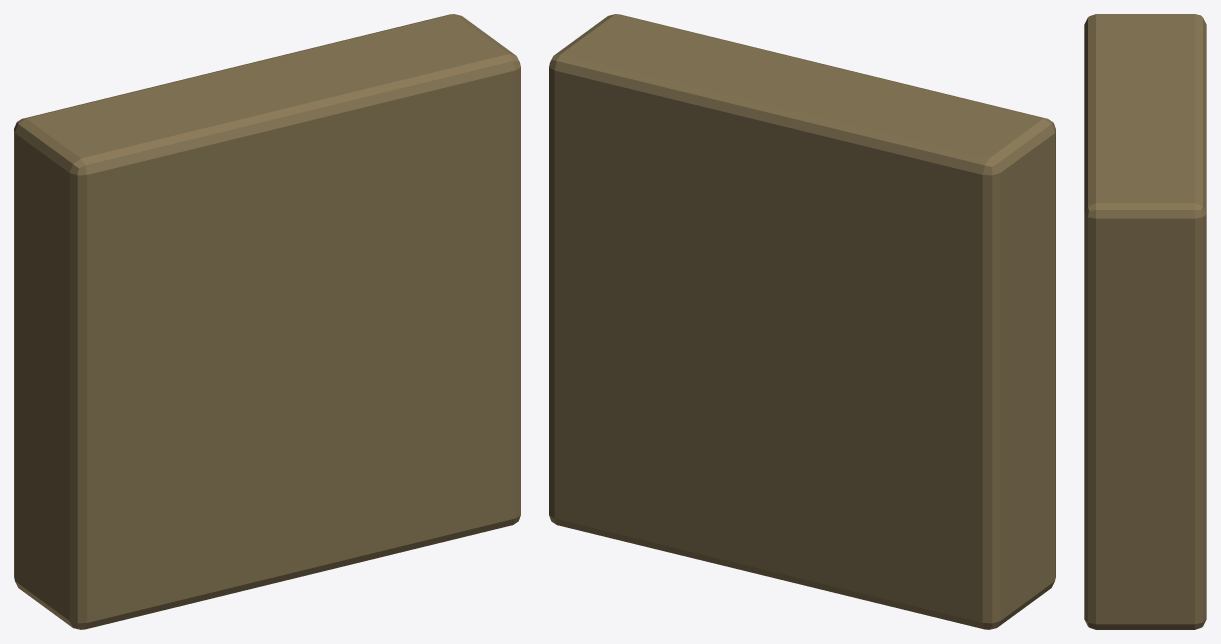
Rendered from SM_Platform_2m_Half_01_D.fbx.
The picture shows the model from 3 angles, left to right: view 1: azimuth 30°, elevation 25°; view 2: azimuth 150°, elevation 25°; view 3: azimuth 270°, elevation 25°; orthographic projection. The views are drawn at different scales.
Visible parts, largest first — view 1: polySurface88; view 2: polySurface88; view 3: polySurface88.
Boxes of the visible parts, x1,y1,x2,y2 form: polySurface88: (14, 14, 520, 629); polySurface88: (549, 14, 1055, 629); polySurface88: (1084, 14, 1206, 629).
Size of the model in its own units: 200 by 200 by 52.
